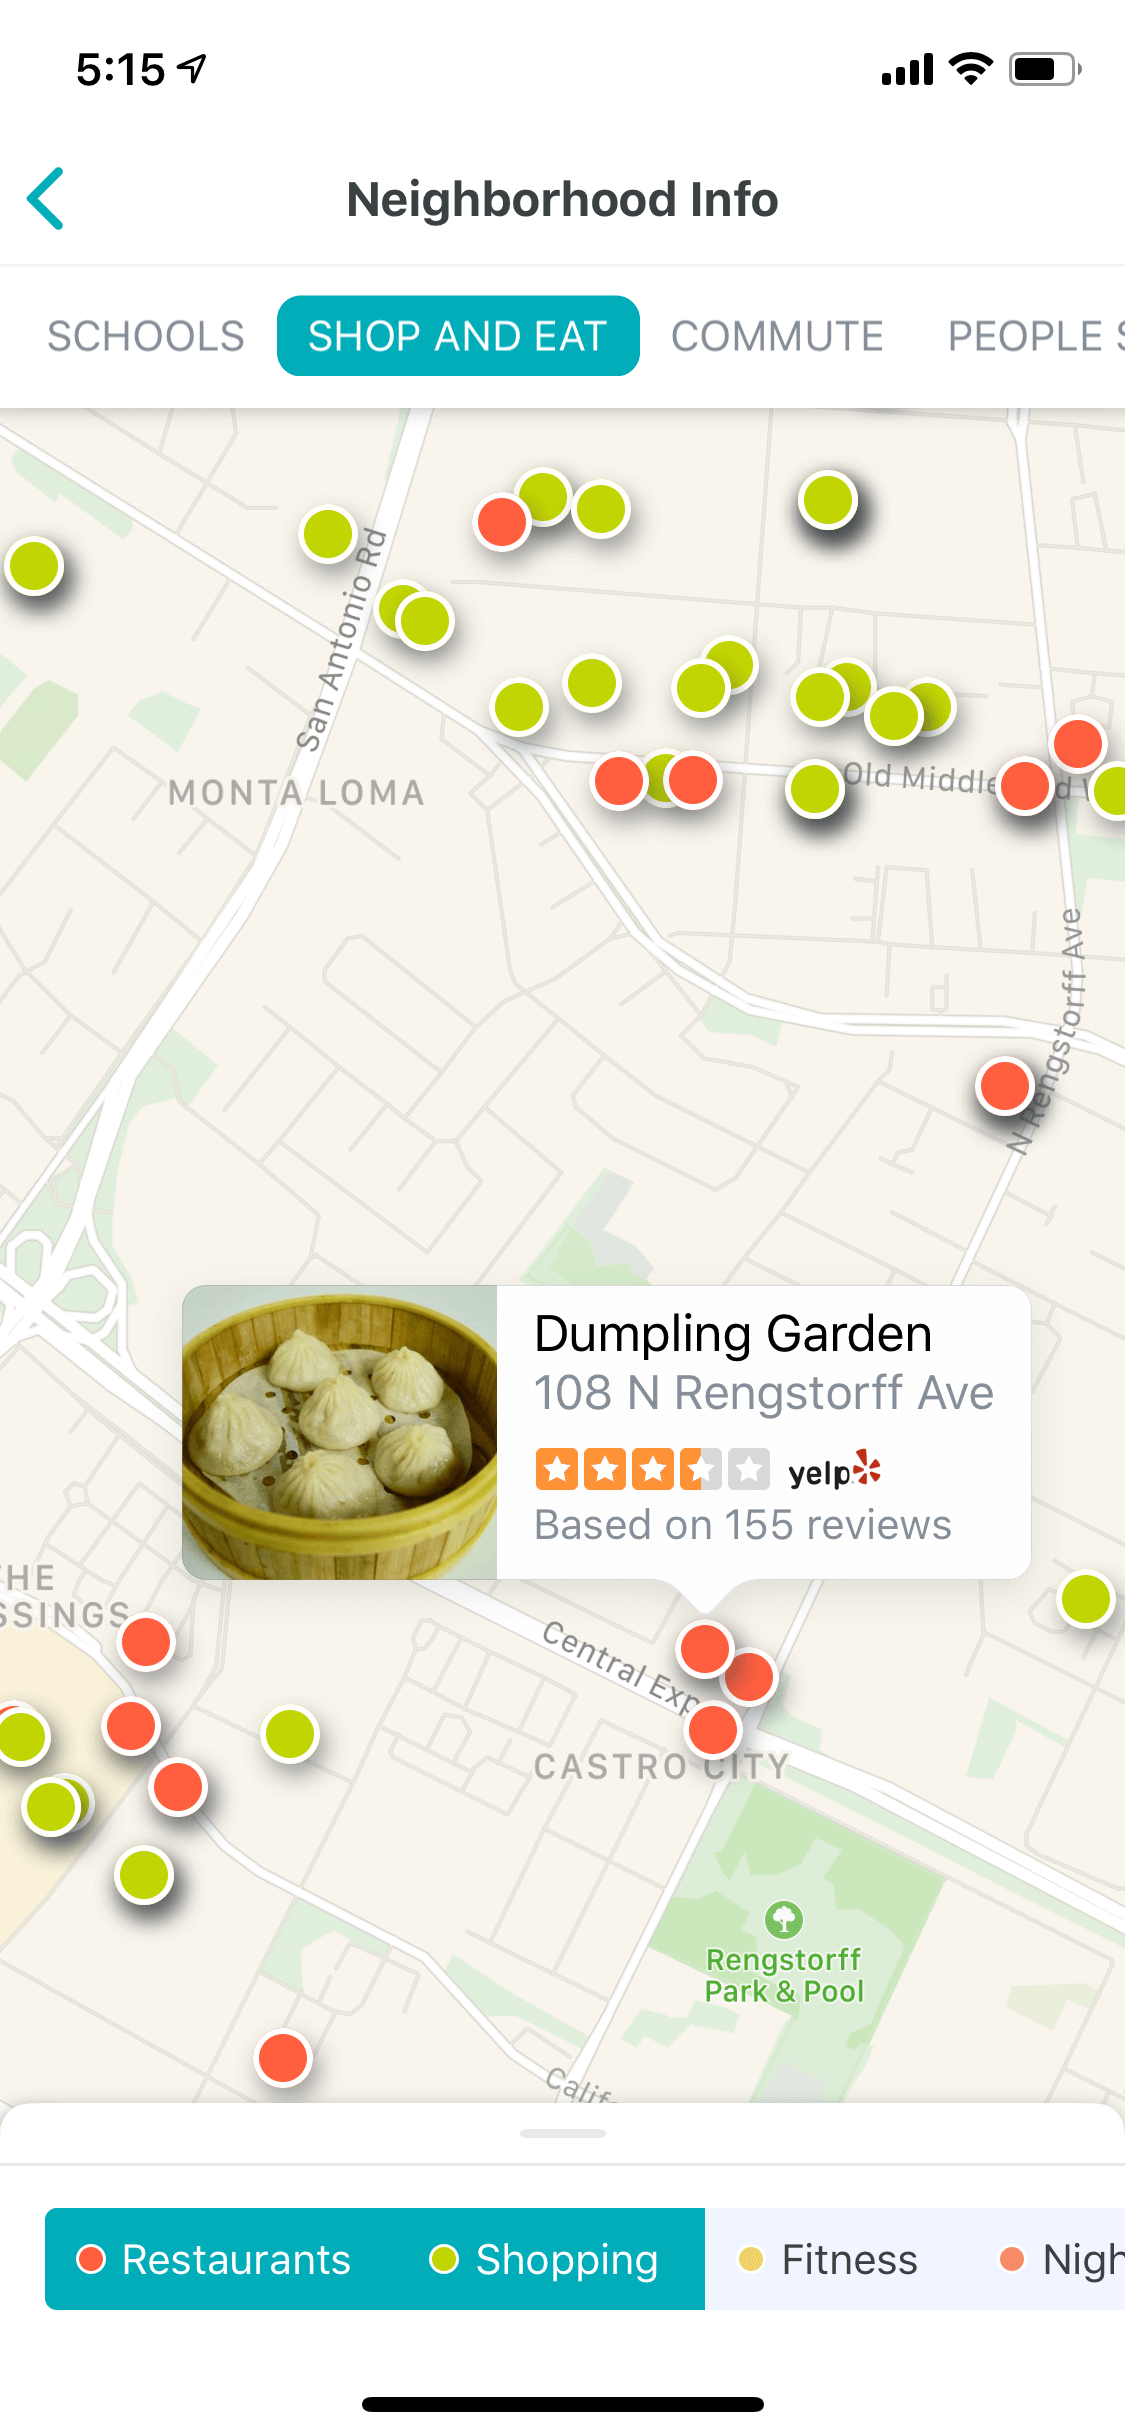Buttons: (2, 146, 106, 249)
Rating: (524, 1429, 782, 1501)
